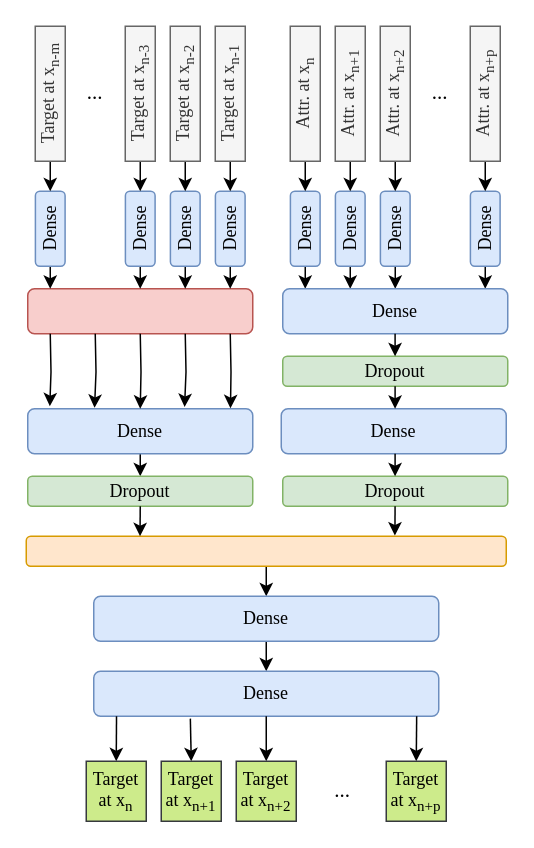
This 534x848 diagram has some shape labels left out. The centre of each missing label's shape, as x and y in pixels:
"Concatenate" goes at pixel 265 550.
"RNN" goes at pixel 139 310.
